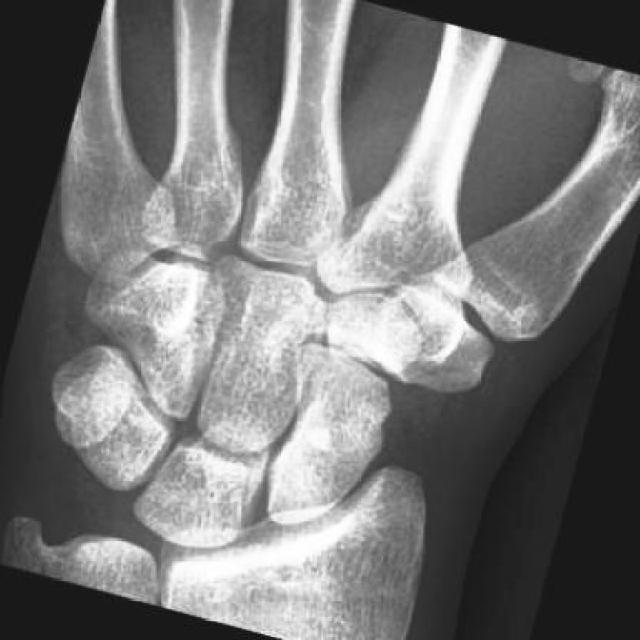Fracture: (297, 384, 403, 458)
